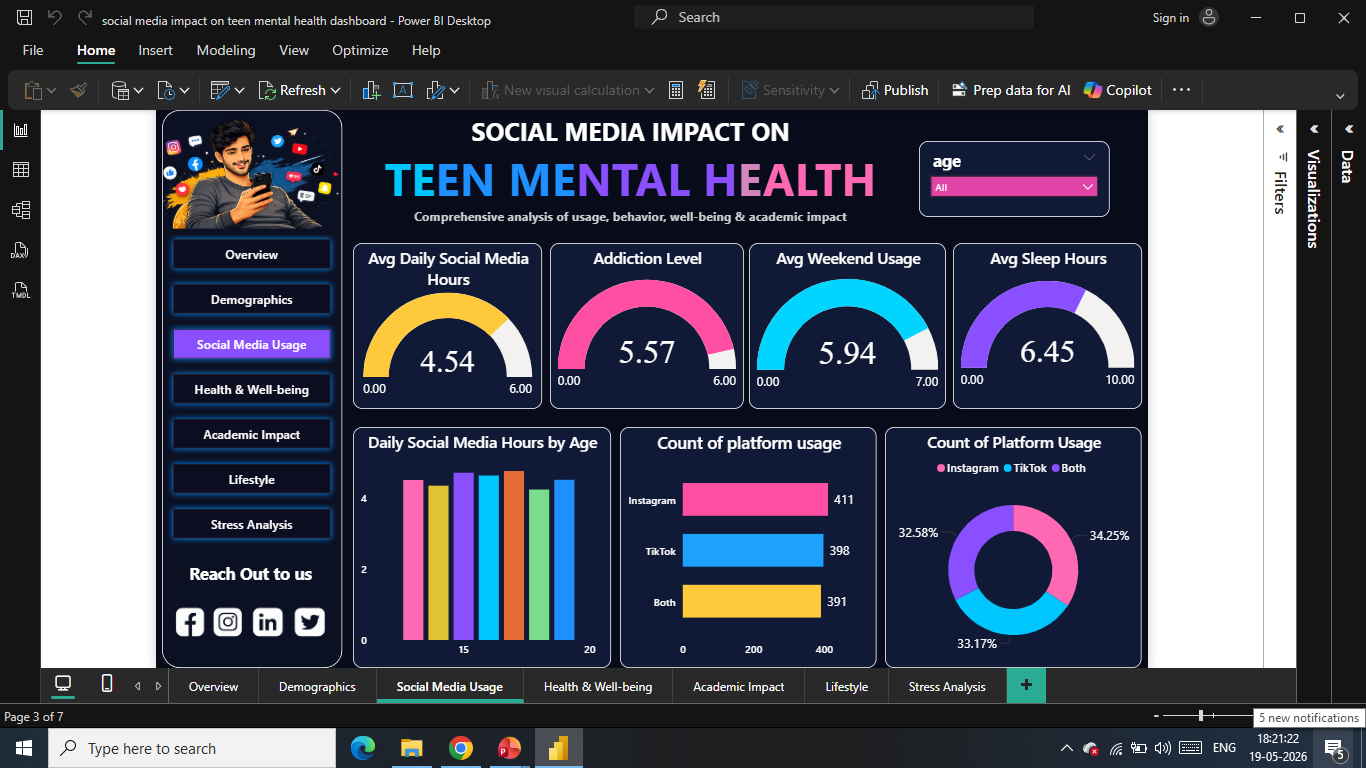

Layout of this report page (visuals, bound fields, positions):
{"tool":"powerbi","page":{"name":"Social Media Usage","canvas":[1280,720],"ordinal":2},"visuals":[{"type":"shape","box":[7.2,0,232.8,720],"z":0},{"type":"pageNavigator","box":[14.5,159,219.8,403.4],"z":1000},{"type":"textbox","box":[240,0,744.6,157.6],"z":2000},{"type":"gauge","title":"Addiction Level","fields":{"Y":["Avg(Teen_Mental_Health_Dataset.addiction_level)"]},"box":[508.9,172,250.1,214],"z":3000},{"type":"gauge","title":"Avg Daily Social Media Hours","fields":{"Y":["Avg(Teen_Mental_Health_Dataset.daily_social_media_hours)"]},"box":[254.5,172,244.3,214],"z":4000},{"type":"gauge","title":"Avg Sleep Hours","fields":{"Y":["Avg(Teen_Mental_Health_Dataset.sleep_hours)"]},"box":[1028,172,244.3,214],"z":5000},{"type":"clusteredColumnChart","title":"Daily Social Media Hours by Age","fields":{"Category":["Teen_Mental_Health_Dataset.age"],"Y":["Avg(Teen_Mental_Health_Dataset.daily_social_media_hours)"]},"box":[254.5,409.2,332.5,310.8],"z":6000},{"type":"image","box":[7.2,0,231.3,159],"z":7000},{"type":"image","box":[7.2,614.5,232.8,91.1],"z":8000},{"type":"textbox","box":[24.6,578.3,195.2,47.7],"z":9000},{"type":"gauge","fields":{"Y":["Teen_Mental_Health_Dataset.Avg Weekend Usage"]},"box":[764.8,172,254.5,214],"z":10000},{"type":"donutChart","title":"Count of Platform Usage","fields":{"Category":["Teen_Mental_Health_Dataset.platform_usage"],"Y":["CountNonNull(Teen_Mental_Health_Dataset.platform_usage)"]},"box":[941.2,409.2,331.1,310.8],"z":11000},{"type":"clusteredBarChart","title":"Count of platform usage ","fields":{"Category":["Teen_Mental_Health_Dataset.platform_usage"],"Y":["CountNonNull(Teen_Mental_Health_Dataset.platform_usage)"]},"box":[598.6,409.2,331.1,310.8],"z":12000},{"type":"slicer","fields":{"Values":["Teen_Mental_Health_Dataset.age"]},"box":[984.6,40.5,245.8,98.3],"z":13000}]}

Visuals, with their boxes on the page's 1280x720 design canvas (x1, y1, x2, y2). These are canvas units, not pixel positions in the 1366x768 screenshot, which may show the page scaled, cropped or inside an application window:
shape: l=7, t=0, r=240, b=720
pageNavigator: l=14, t=159, r=234, b=562
textbox: l=240, t=0, r=985, b=158
"Addiction Level" gauge: l=509, t=172, r=759, b=386
"Avg Daily Social Media Hours" gauge: l=254, t=172, r=499, b=386
"Avg Sleep Hours" gauge: l=1028, t=172, r=1272, b=386
"Daily Social Media Hours by Age" clusteredColumnChart: l=254, t=409, r=587, b=720
image: l=7, t=0, r=238, b=159
image: l=7, t=614, r=240, b=706
textbox: l=25, t=578, r=220, b=626
gauge - Teen_Mental_Health_Dataset.Avg Weekend Usage: l=765, t=172, r=1019, b=386
"Count of Platform Usage" donutChart: l=941, t=409, r=1272, b=720
"Count of platform usage " clusteredBarChart: l=599, t=409, r=930, b=720
slicer - Teen_Mental_Health_Dataset.age: l=985, t=40, r=1230, b=139
